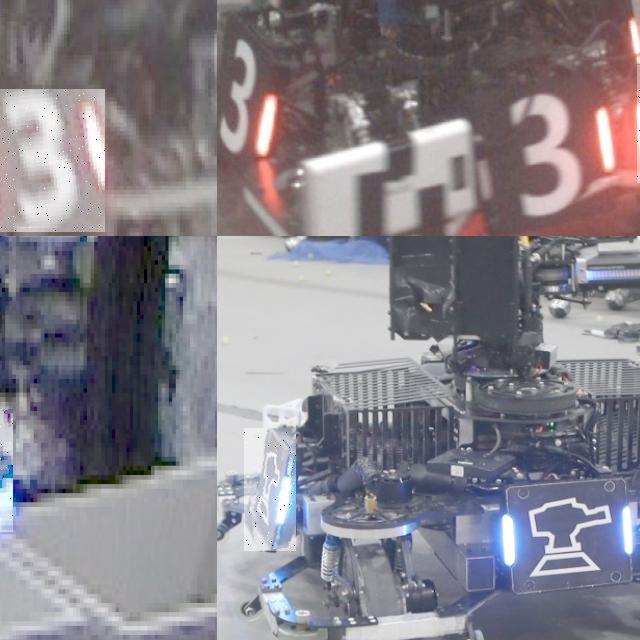Bs: (500, 476, 636, 592), (244, 428, 296, 551)
R3: (0, 89, 104, 232)
